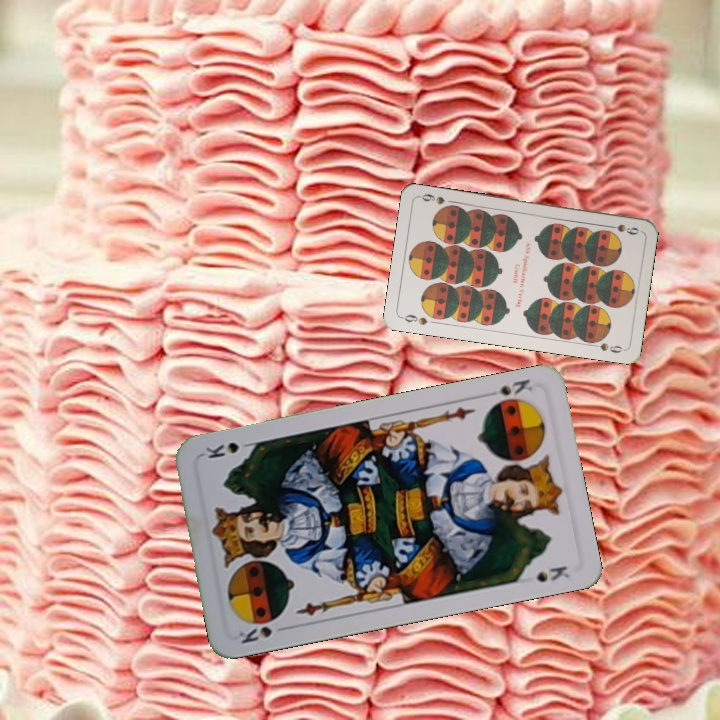S9: (602, 220, 641, 238), (398, 310, 430, 327)
SK: (480, 374, 535, 400), (234, 622, 292, 646)
